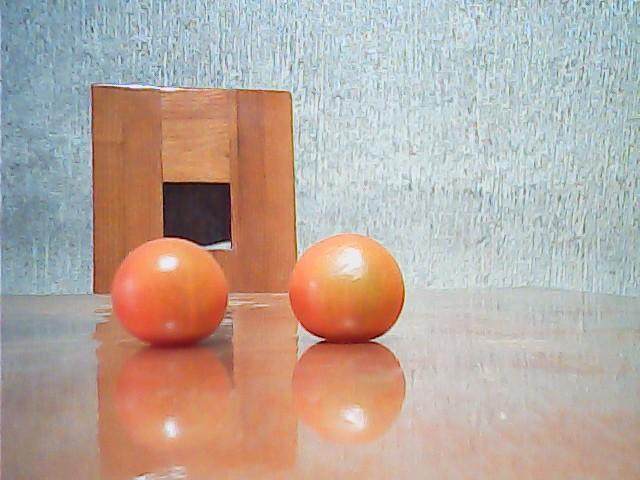maduro: (112, 238, 231, 346)
verde: (290, 234, 406, 341)
